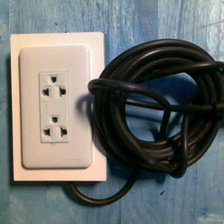three_eye_plug: (17, 43, 92, 169)
